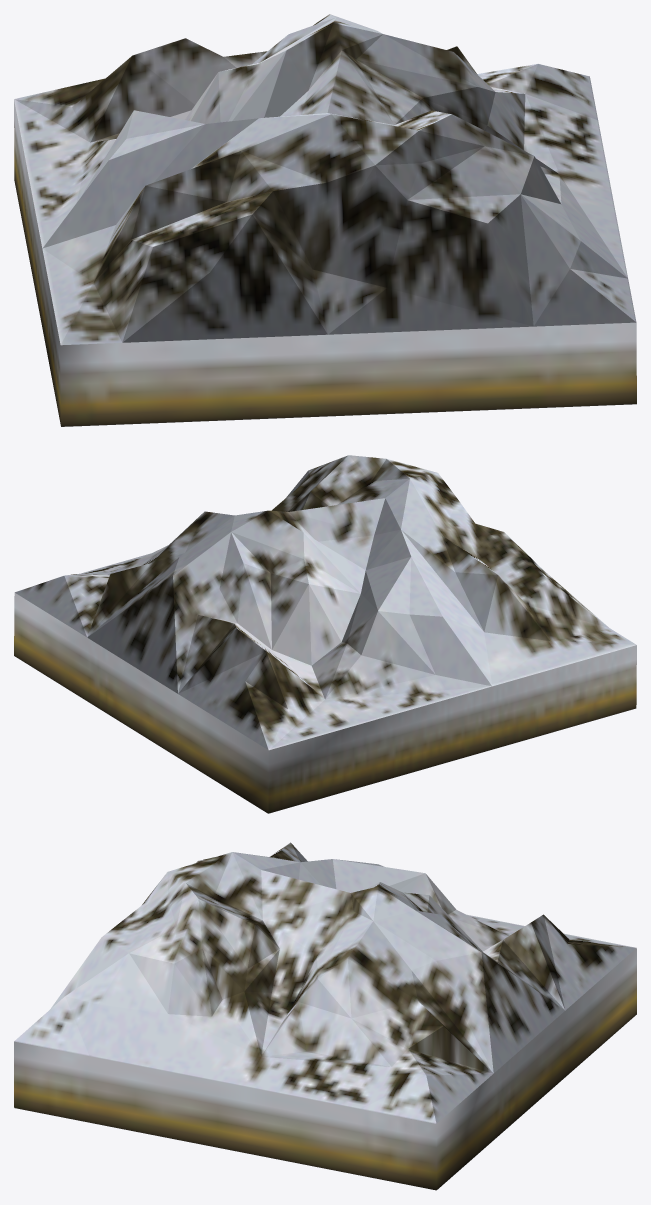
The model's file is icon1.ico.obj.
3 renders of one model, top to bottom at view 1: azimuth 30°, elevation 25°; view 2: azimuth 150°, elevation 25°; view 3: azimuth 270°, elevation 25°, orthographic. The views are drawn at different scales.
Bounding box in the file's own units: 4.51 × 1.54 × 4.51.
Materials: 1 (1 with a texture image).
